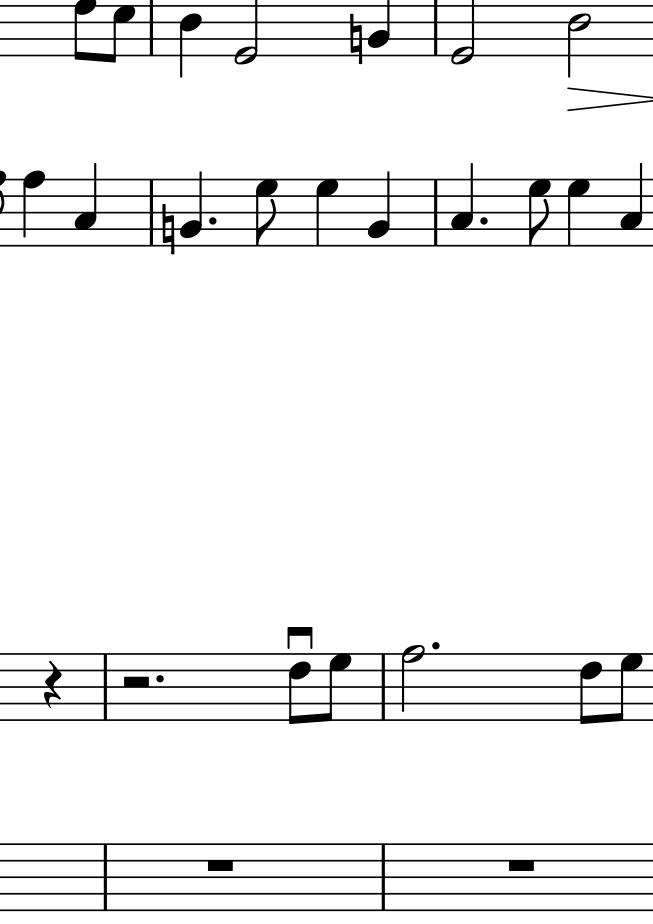2_8: (400, 643, 424, 723)
4_2: (178, 170, 204, 249), (366, 169, 392, 248)
4_3: (618, 163, 645, 247), (73, 164, 98, 247), (450, 164, 475, 246)
4_7: (565, 178, 592, 247), (314, 177, 340, 247)
4_8: (21, 168, 45, 248)
8_6: (578, 652, 603, 725), (288, 652, 311, 727)
8_7: (320, 651, 351, 723), (612, 651, 642, 722), (253, 177, 280, 247), (527, 177, 552, 247)
Diminuendo_hairpin: (566, 84, 653, 113)
Down_bow: (285, 624, 315, 651)
Natural: (347, 11, 364, 66), (161, 202, 176, 256)
Rests1: (504, 857, 538, 873), (205, 856, 236, 873)
Rests2: (118, 674, 152, 692)
Rests4: (42, 660, 63, 712)
Single_barline: (97, 654, 114, 719), (145, 179, 159, 245), (429, 179, 443, 245), (98, 846, 112, 909), (144, 1, 160, 55), (377, 847, 390, 909), (429, 2, 443, 55)
dot: (152, 671, 170, 685), (206, 214, 218, 226), (478, 214, 490, 226), (429, 640, 441, 652)
